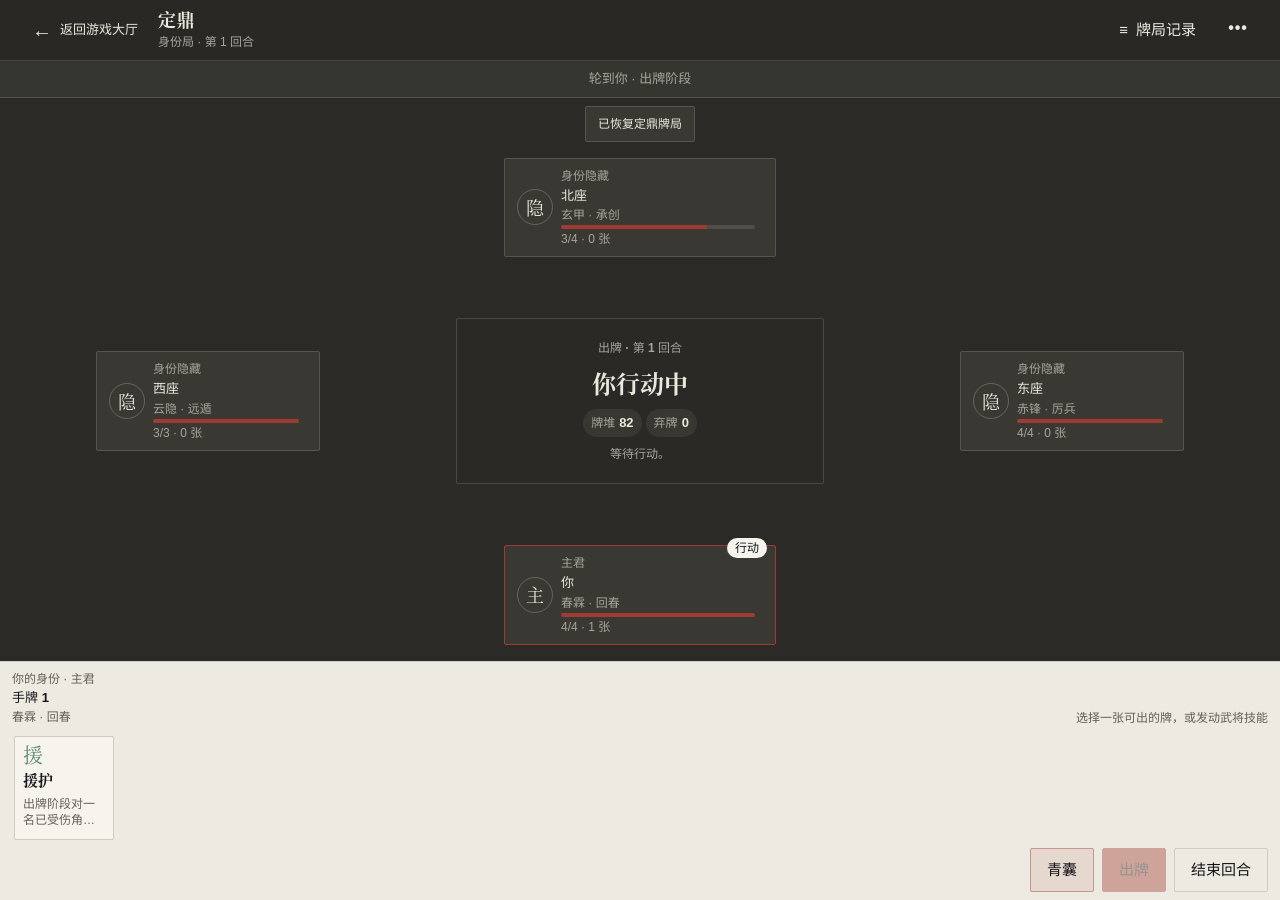
Test: DingDingGame card target selection › automatically selects the only legal target and enables the named play action
Click the button with aria-label "援护，可打出" at (64, 788), box [14,736,114,840]
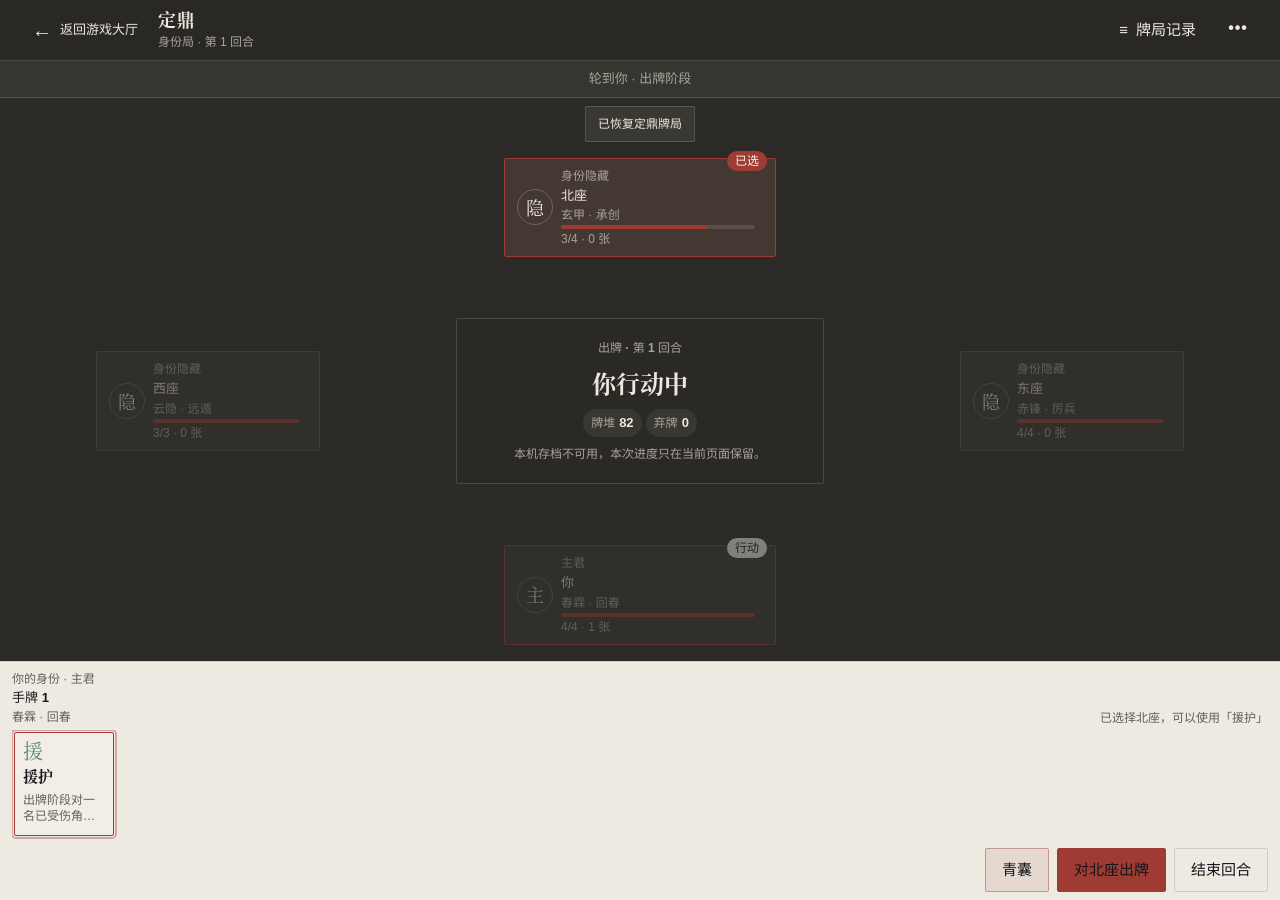
Result: the text "已选择北座，可以使用「援护」" is shown at [1100,710,1268,726]
Result: the button with aria-label "使用「援护」对北座出牌" is enabled at [1057,848,1166,892]
